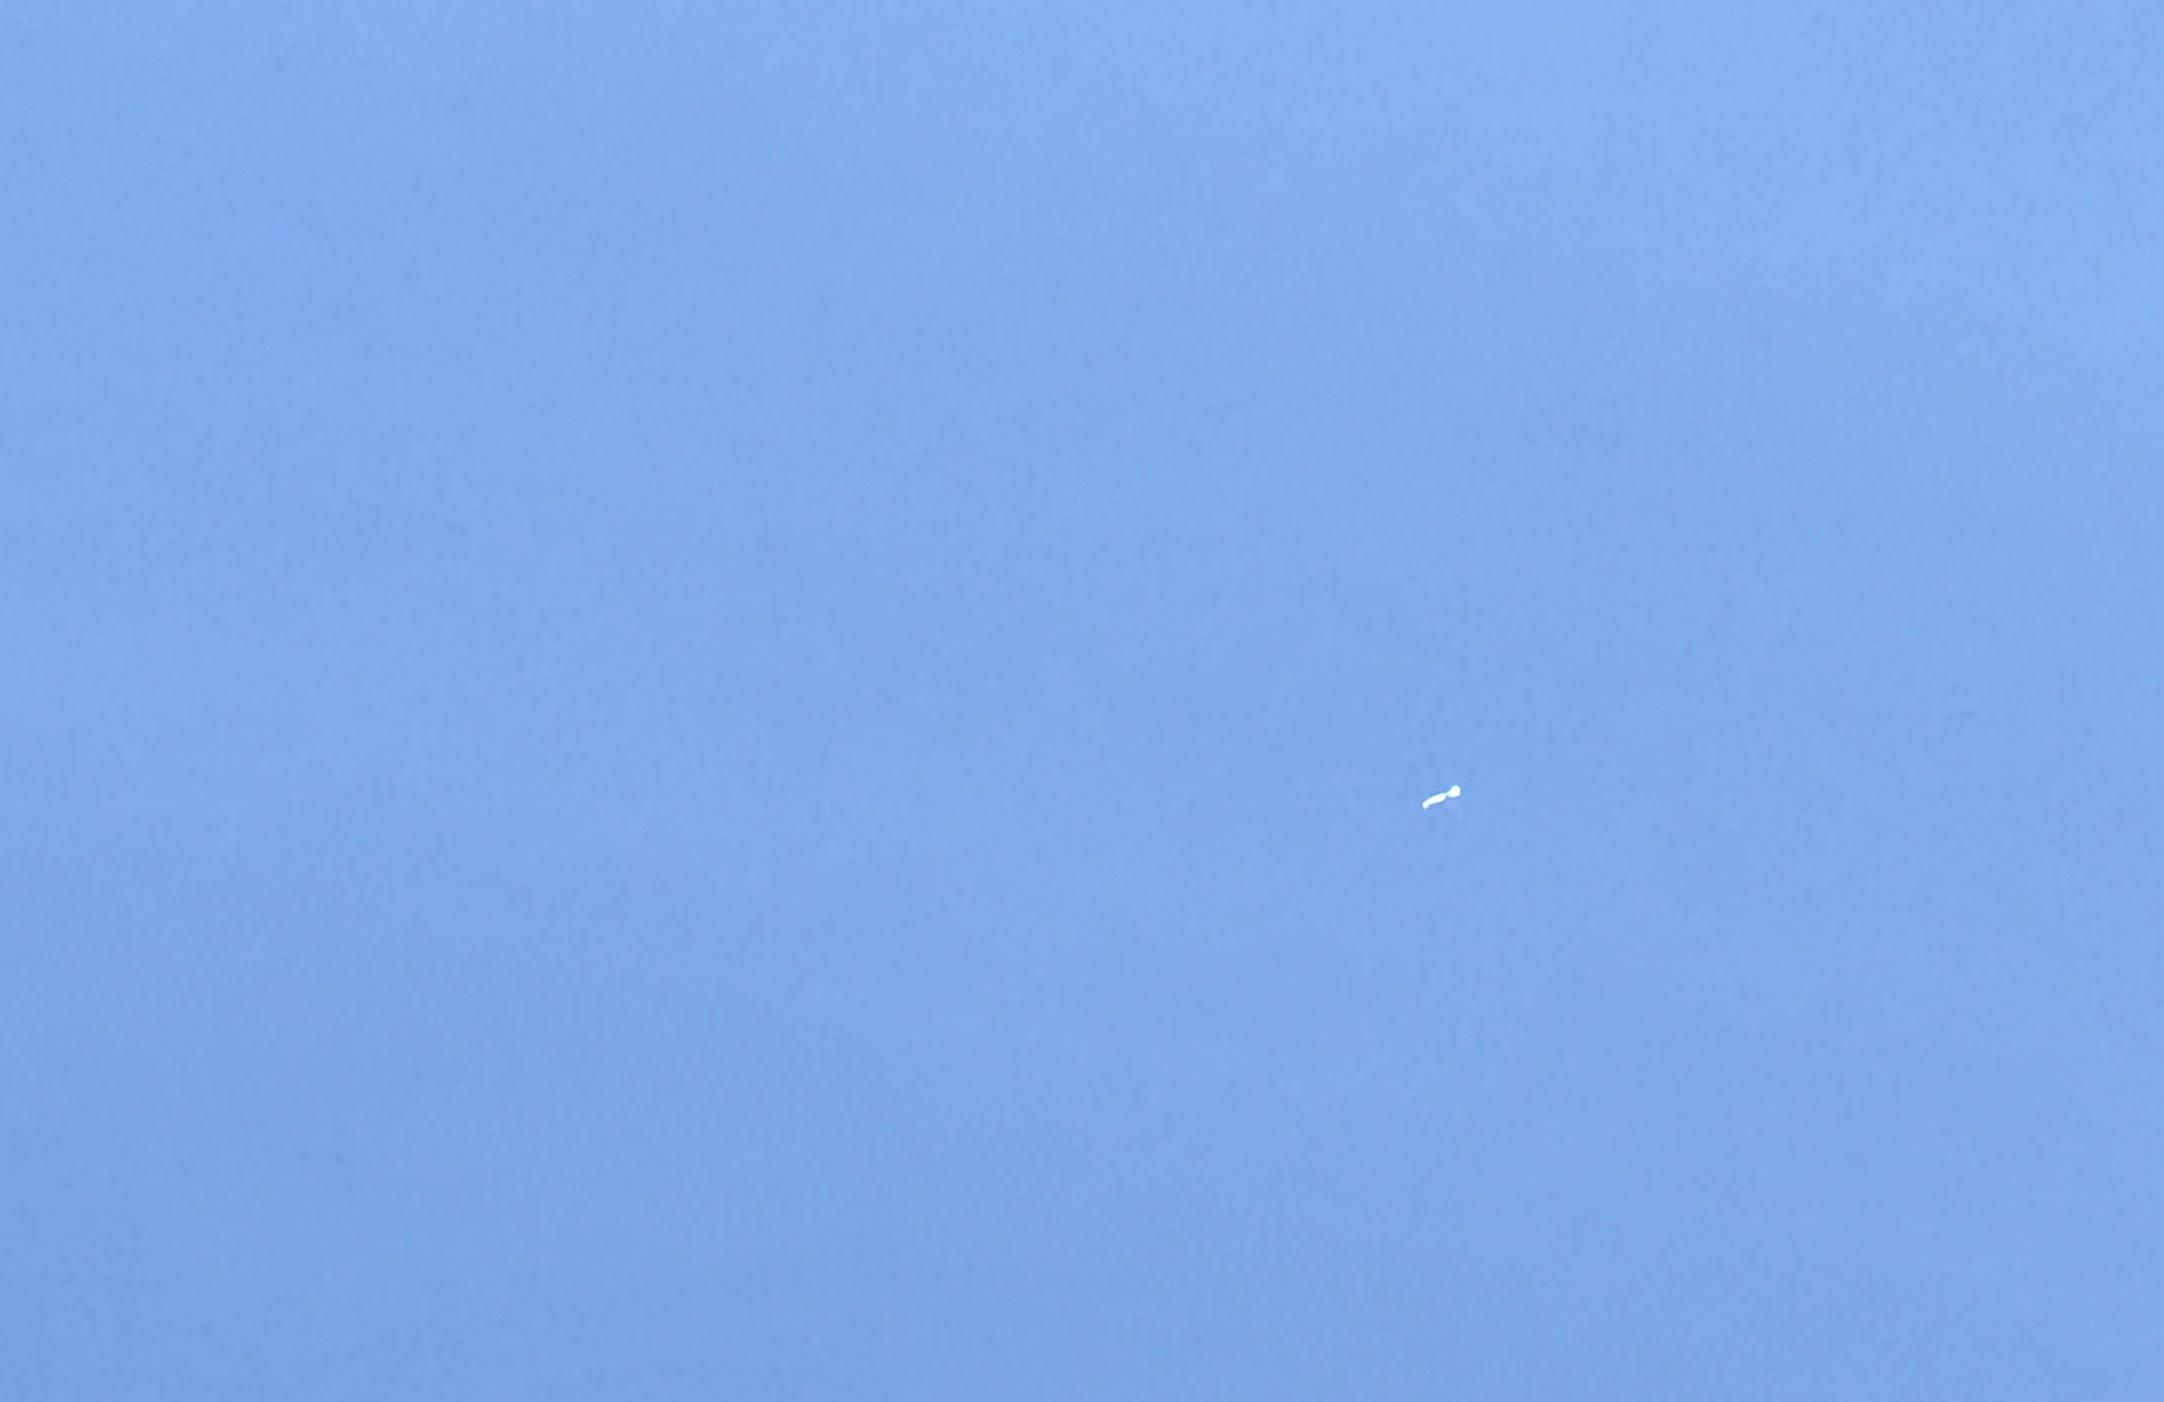Plane: (1386, 757, 1487, 847)
